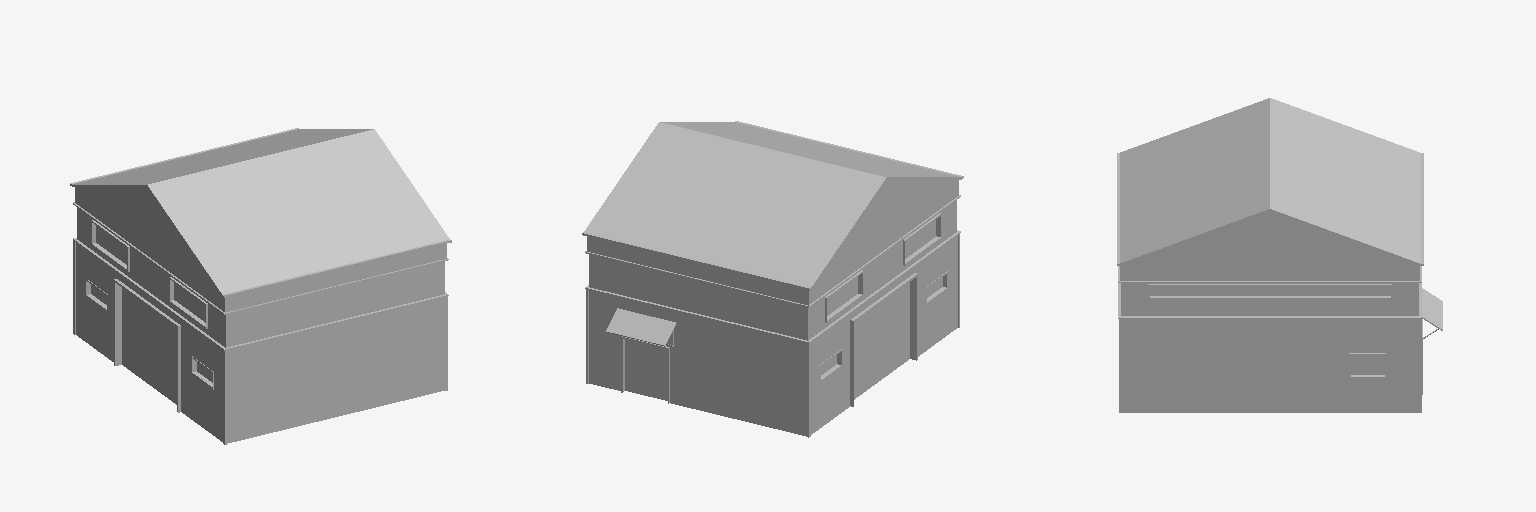
Rendered from Building_2.obj.
3 views of the same model, side by side, from view 1: azimuth 30°, elevation 25°; view 2: azimuth 150°, elevation 25°; view 3: azimuth 270°, elevation 25° (orthographic).
Parts seen in each view (by area): view 1: Building_2; view 2: Building_2; view 3: Building_2.
Part boxes in pixels (left/top/right/bottom): Building_2: left=70, top=128, right=451, bottom=444; Building_2: left=582, top=121, right=963, bottom=437; Building_2: left=1117, top=98, right=1442, bottom=412.
Size of the model in its own units: 10.86 by 9.36 by 13.5.